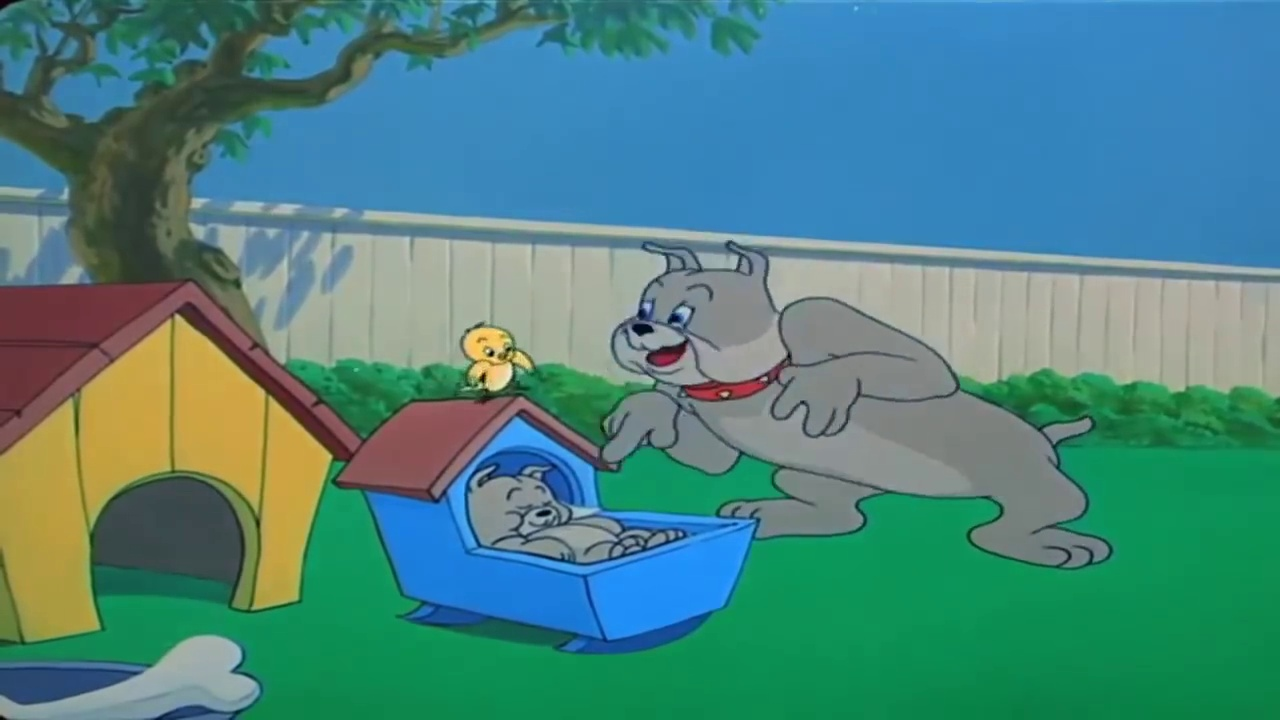spike: (611, 239, 803, 410)
